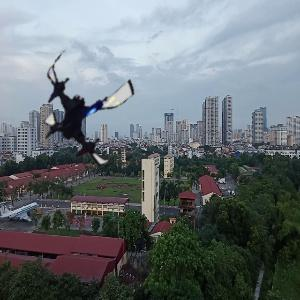drone: (28, 48, 149, 169)
